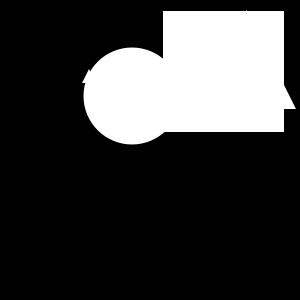circle: (163, 11, 284, 132)
rectangle: (84, 48, 180, 144)
triangle: (197, 10, 296, 109), (82, 69, 96, 83)
